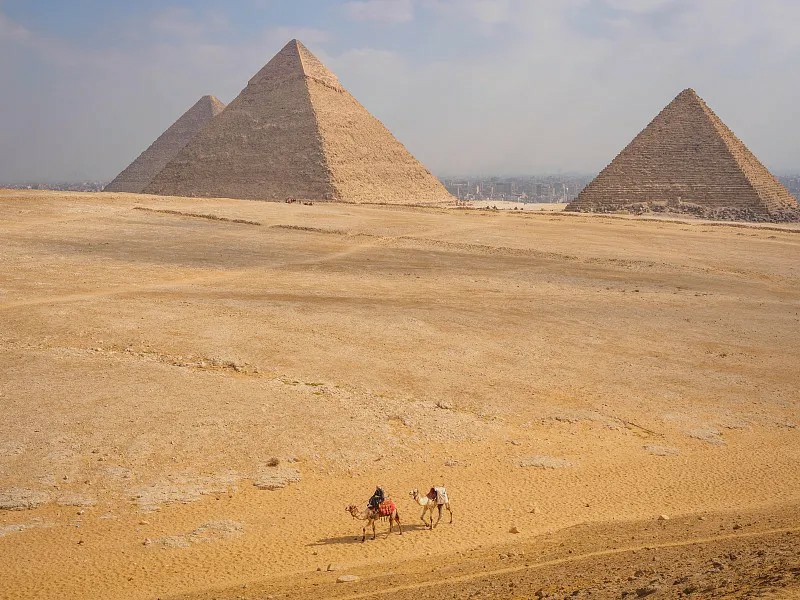Pyramid: (142, 38, 461, 205), (563, 89, 800, 224), (101, 95, 226, 195)
